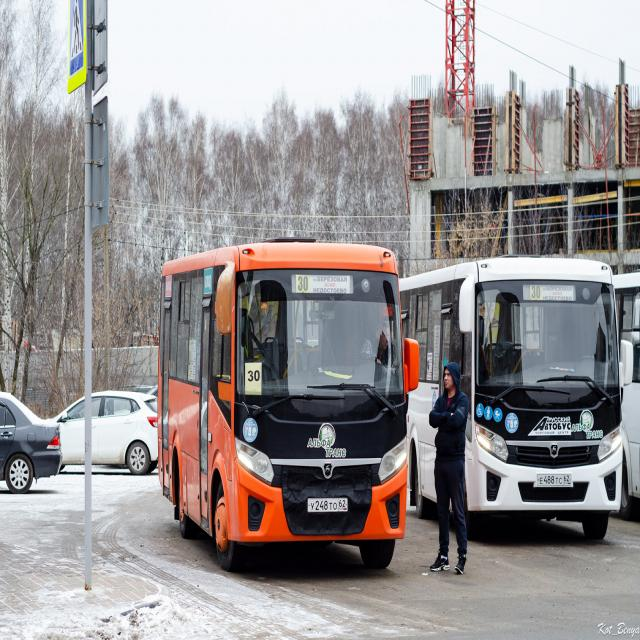number-of-bus: (247, 365, 262, 393), (297, 276, 311, 293)
